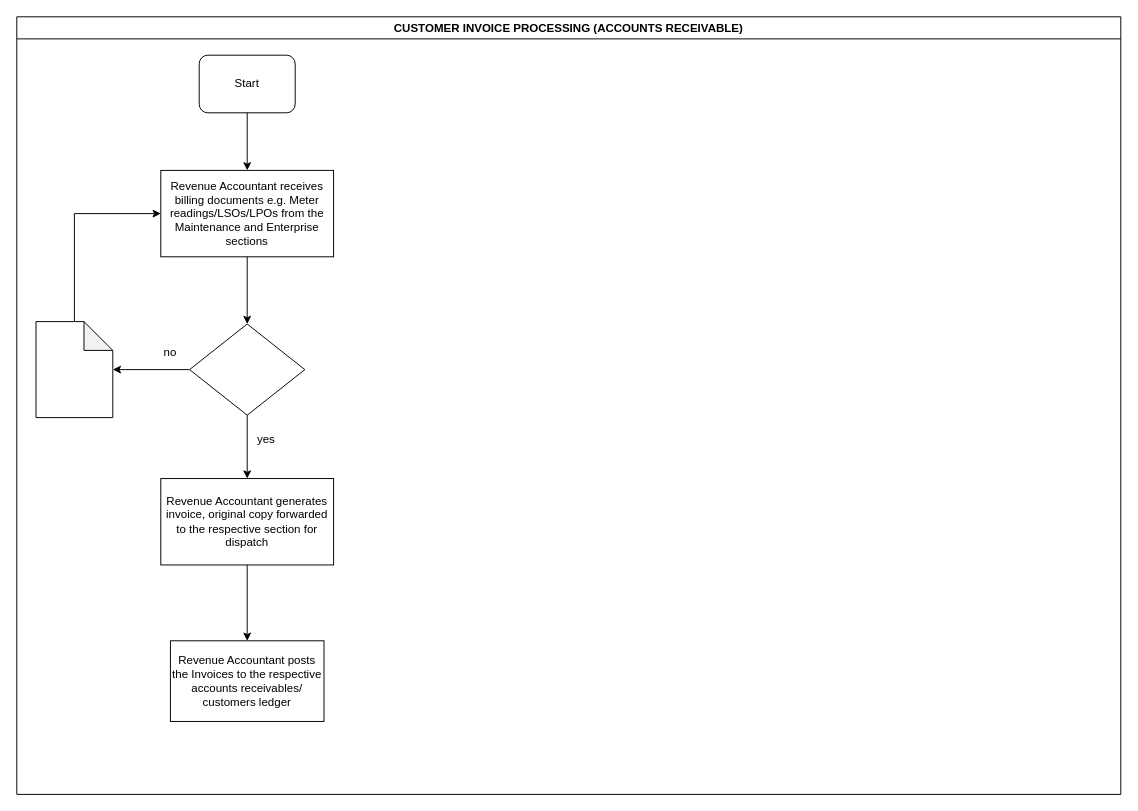
The diagram is 1138 pixels wide and 811 high, and some of its shapes have lost their labels. The centre of each missing label's shape, as x and y in pixels:
correct/ accurate/ complete?: the point at 247,369
Notes to return to originator: the point at 74,369
